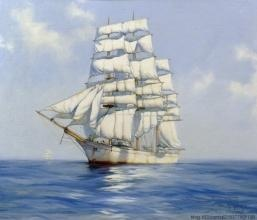fanchuan: (35, 14, 188, 168)
